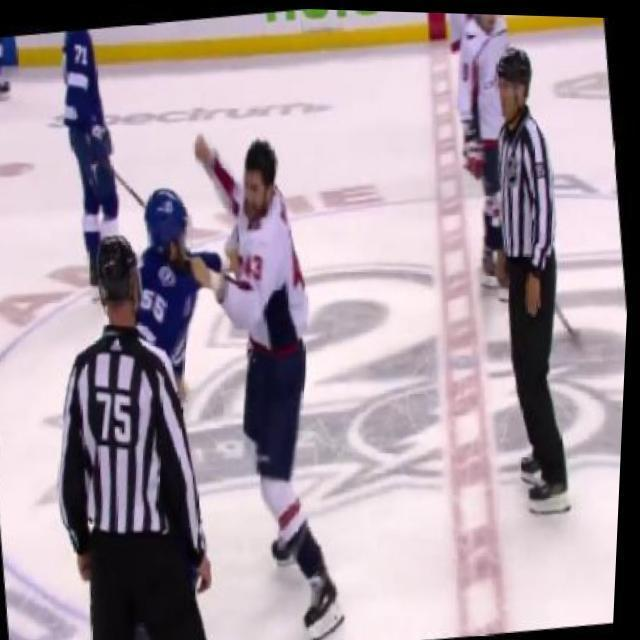fight: (107, 126, 368, 640)
